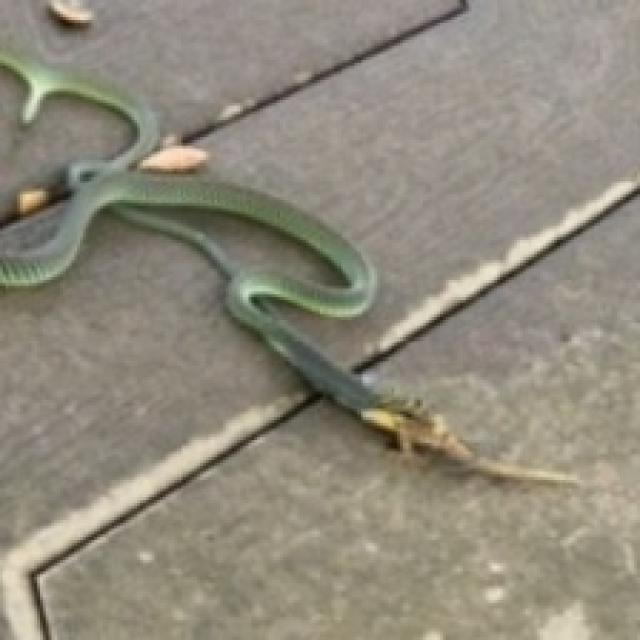paradise tree snake: (0, 49, 574, 483), (163, 206, 337, 286)
